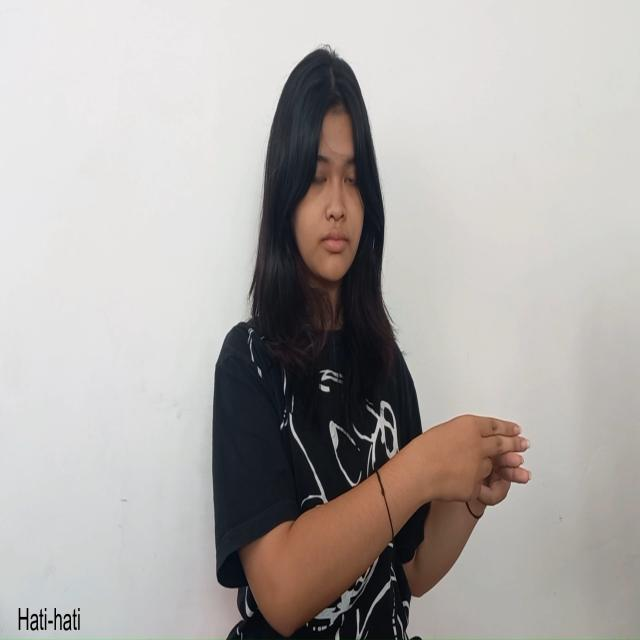Hati-hati -BISINDO-: (406, 413, 533, 507)
